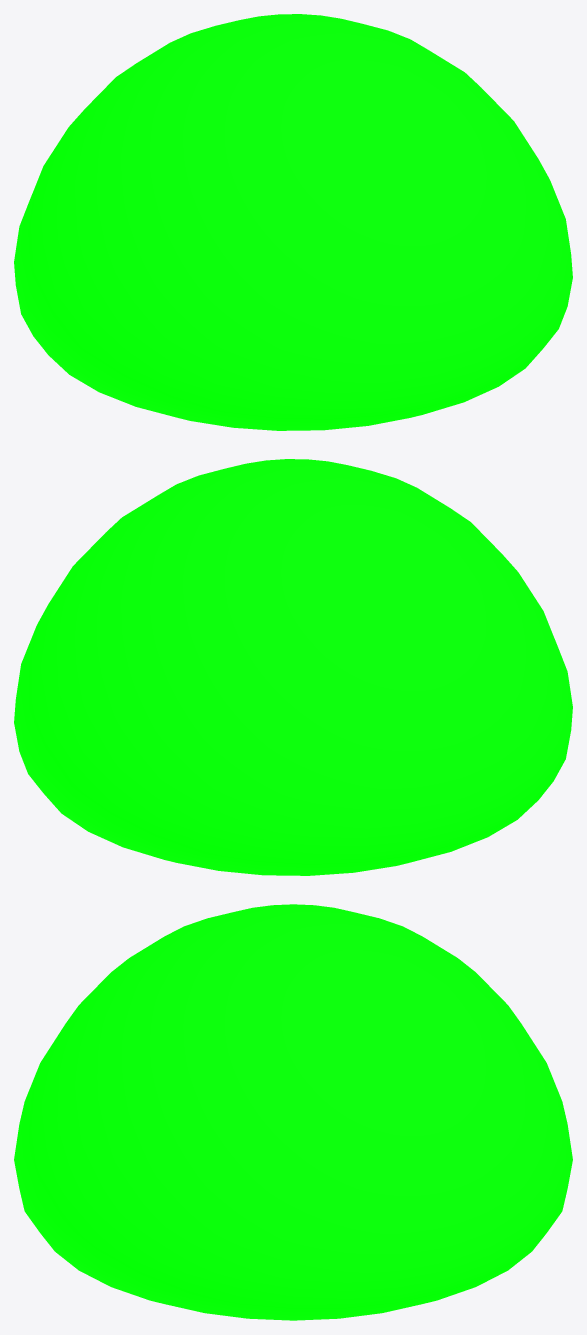
The picture shows the model from 3 angles, top to bottom: view 1: azimuth 30°, elevation 25°; view 2: azimuth 150°, elevation 25°; view 3: azimuth 270°, elevation 25°; orthographic projection.
Parts seen in each view (by area): view 1: Sphere; view 2: Sphere; view 3: Sphere.
Part boxes in pixels (x1=…): Sphere: x1=14, y1=14, x2=572, y2=430; Sphere: x1=14, y1=459, x2=572, y2=875; Sphere: x1=14, y1=904, x2=572, y2=1320.
Size of the model in its own units: 1749 by 1008 by 1749.
